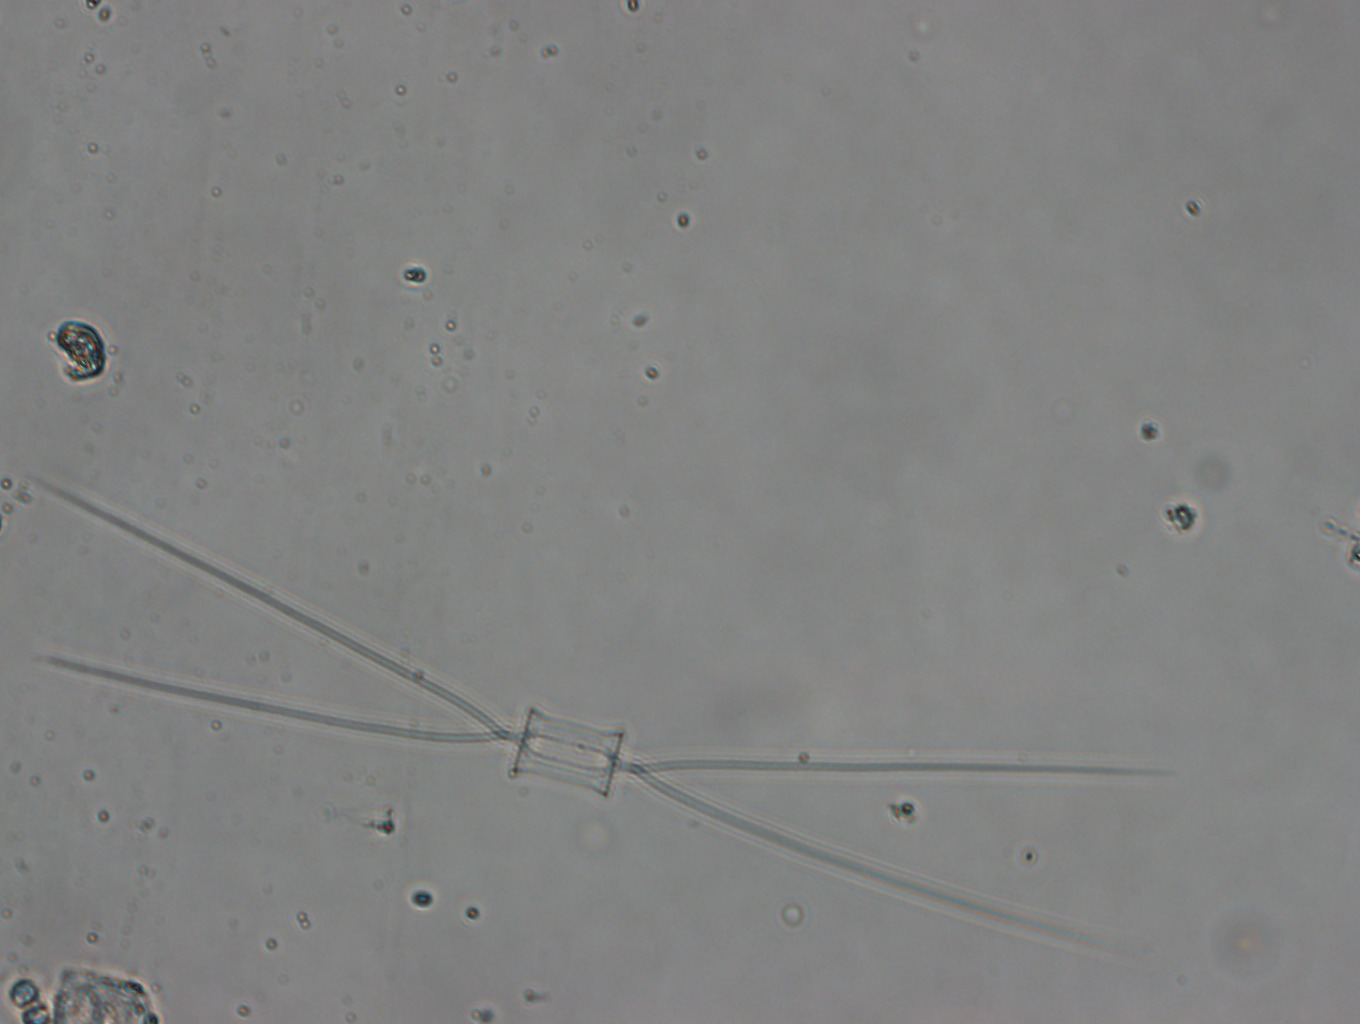chaetoceros: (33, 484, 1177, 979)
